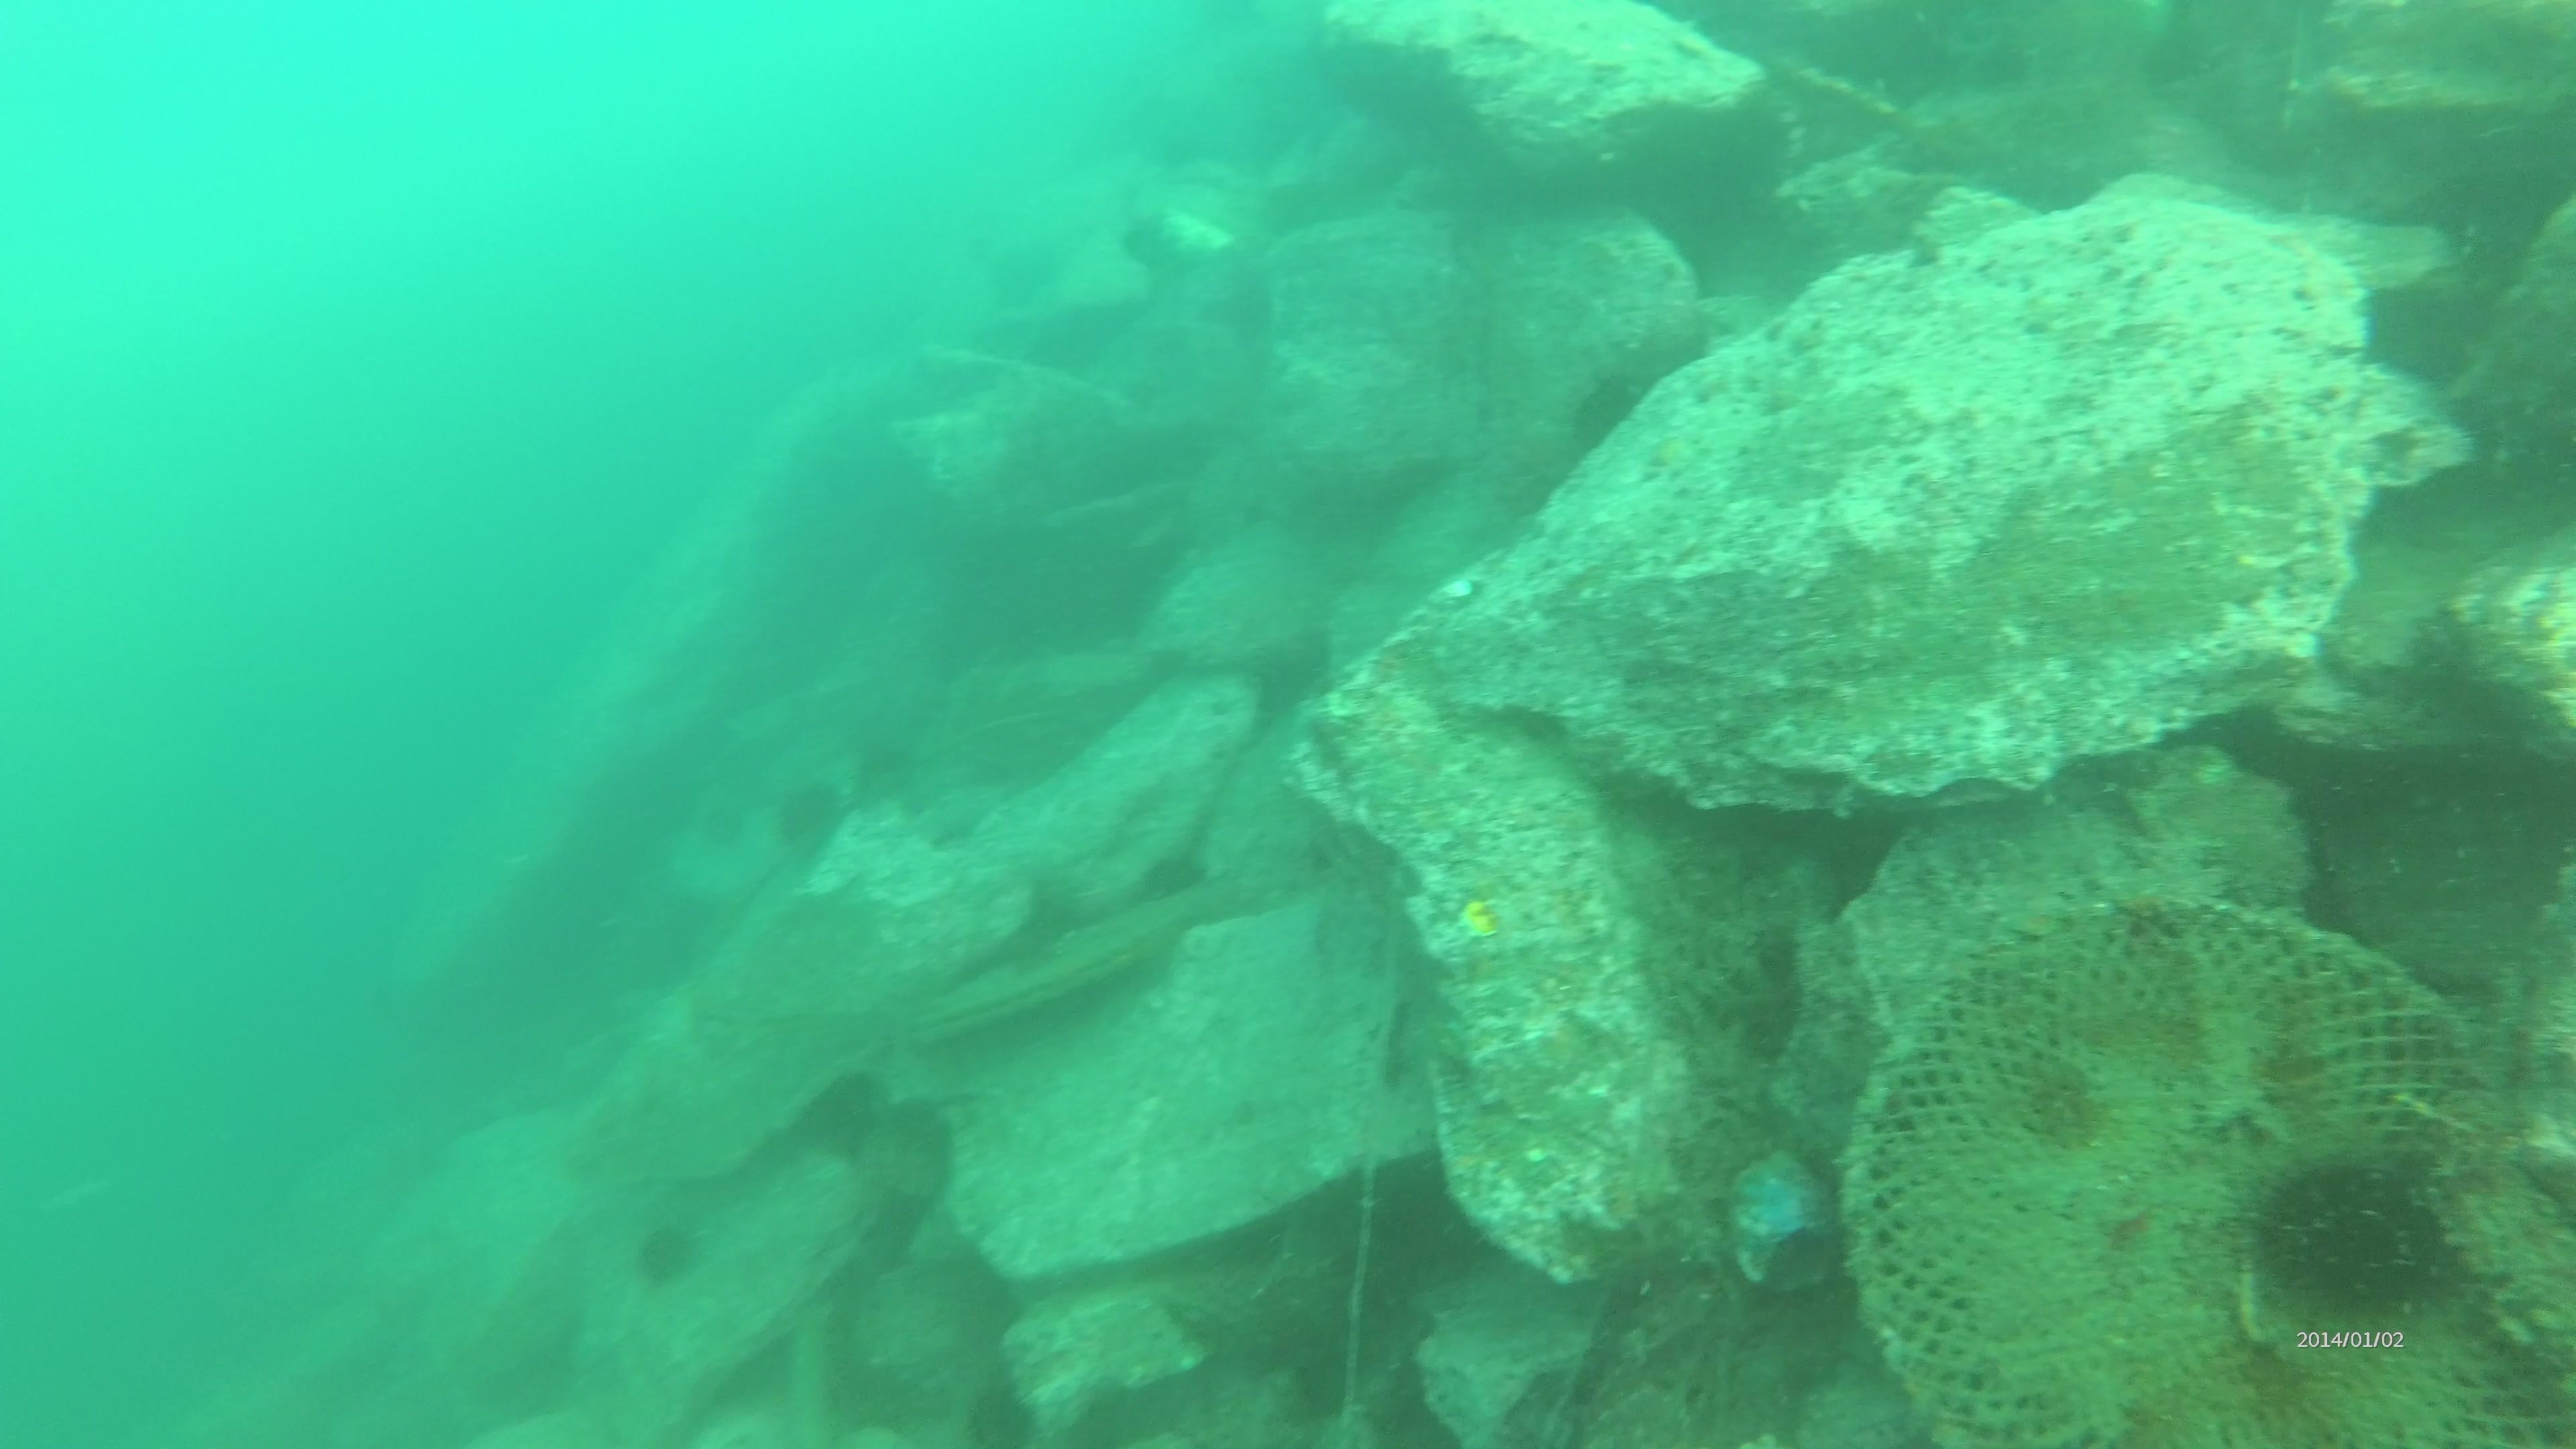echinus: (2238, 1148, 2465, 1332), (766, 771, 853, 867), (626, 1210, 709, 1292)
